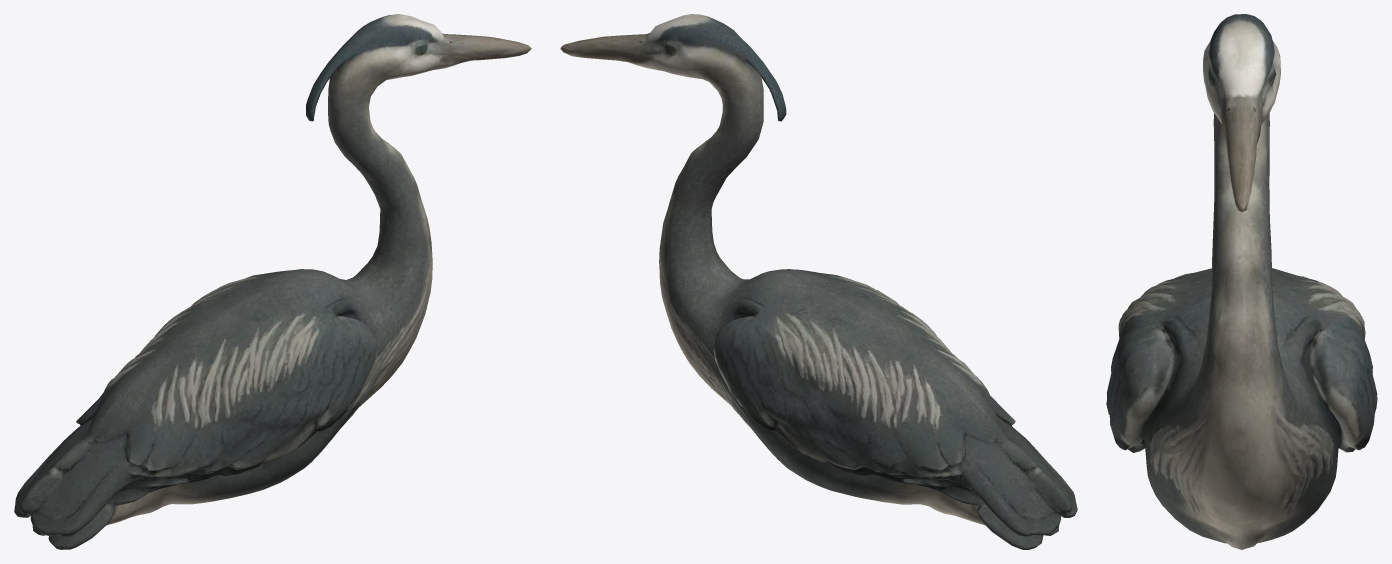
Rendered from heron-CxzrwCVc.glb.
3 renders of one model, left to right at view 1: azimuth 30°, elevation 25°; view 2: azimuth 150°, elevation 25°; view 3: azimuth 270°, elevation 25°, orthographic. The views are drawn at different scales.
Visible parts, largest first — view 1: geom0; view 2: geom0; view 3: geom0.
Part boxes in pixels (x1,y1,x2,y2): geom0: [14, 14, 531, 549]; geom0: [560, 14, 1077, 549]; geom0: [1106, 14, 1377, 549].
Size of the model in its own units: 1 by 0.8217 by 0.3269.
Materials: 1 (1 with a texture image).
